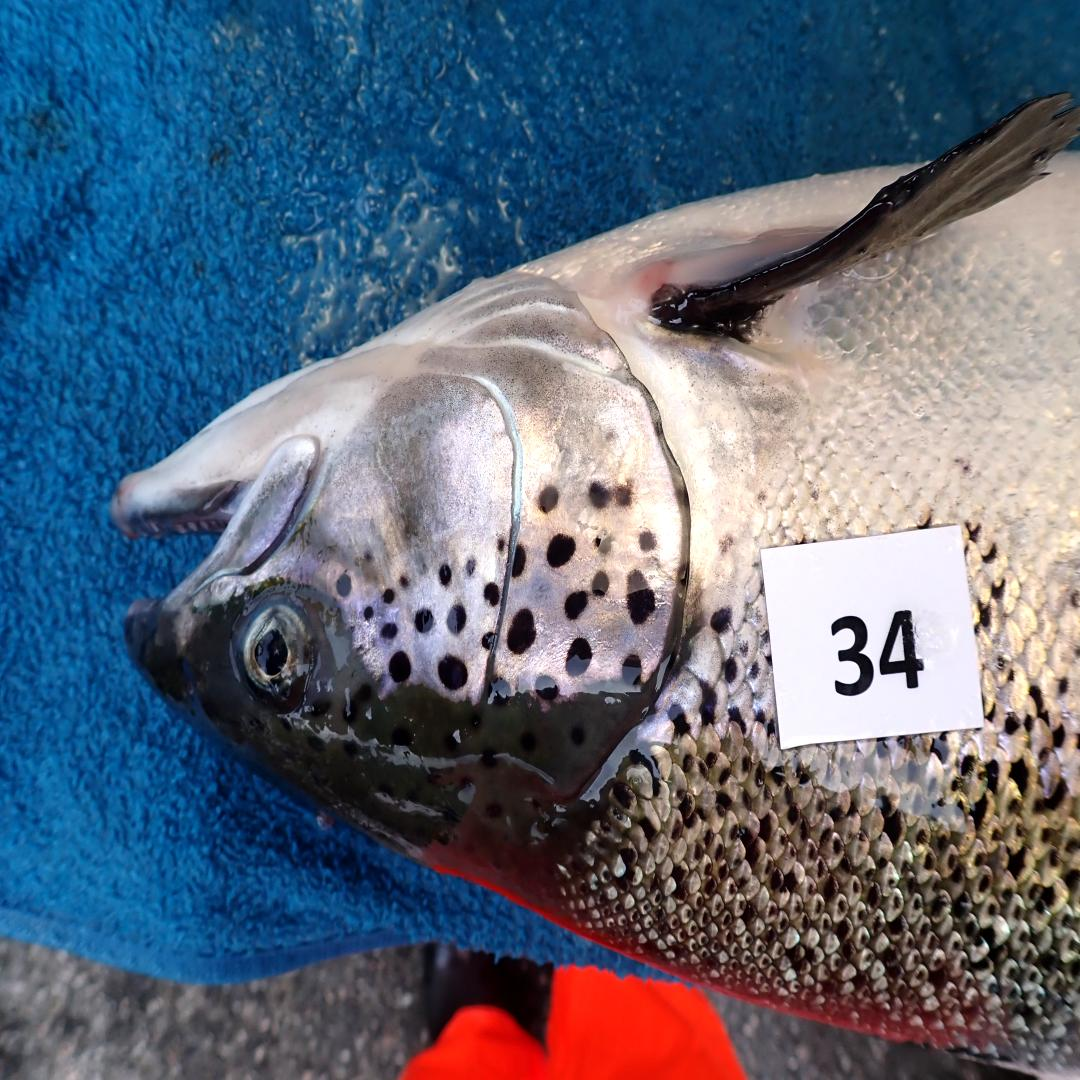roi: (316, 273, 692, 711)
